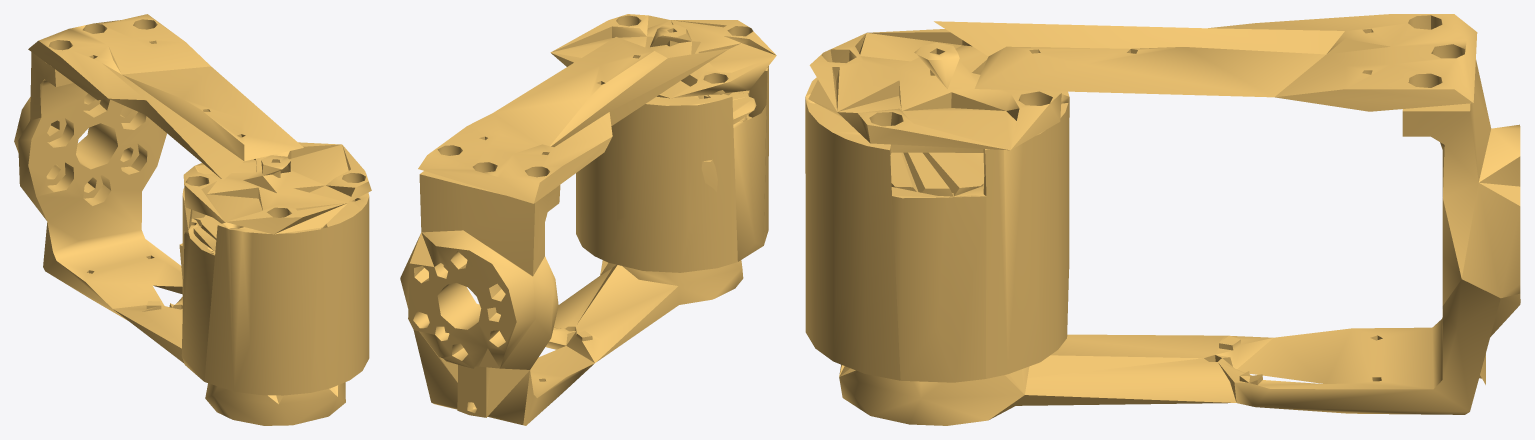
File: head_yaw_link.glb
3 views of the same model, side by side, from view 1: azimuth 30°, elevation 25°; view 2: azimuth 150°, elevation 25°; view 3: azimuth 270°, elevation 25° (orthographic). The views are drawn at different scales.
Parts seen in each view (by area): view 1: head_yaw_link; view 2: head_yaw_link; view 3: head_yaw_link.
Part boxes in pixels (bbox=[...]): head_yaw_link: bbox=[14, 14, 371, 425]; head_yaw_link: bbox=[400, 14, 776, 425]; head_yaw_link: bbox=[805, 14, 1520, 425].
Size of the model in its own units: 0.051 by 0.0641 by 0.1245.
